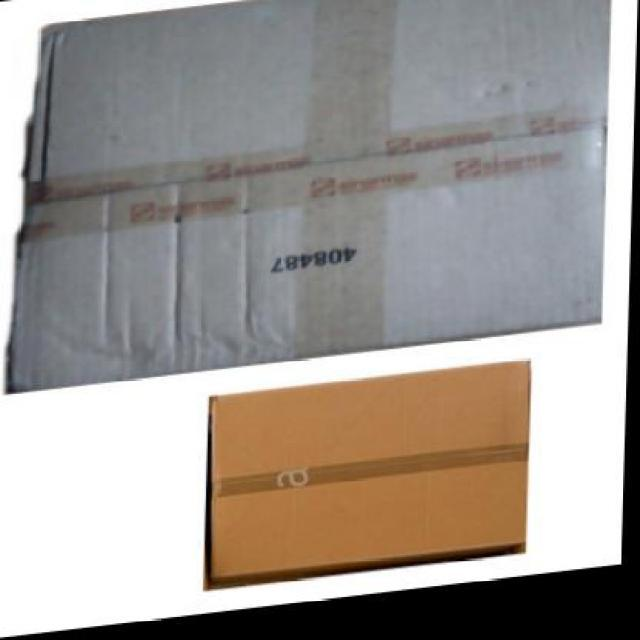box: (19, 0, 608, 395), (208, 372, 532, 592)
